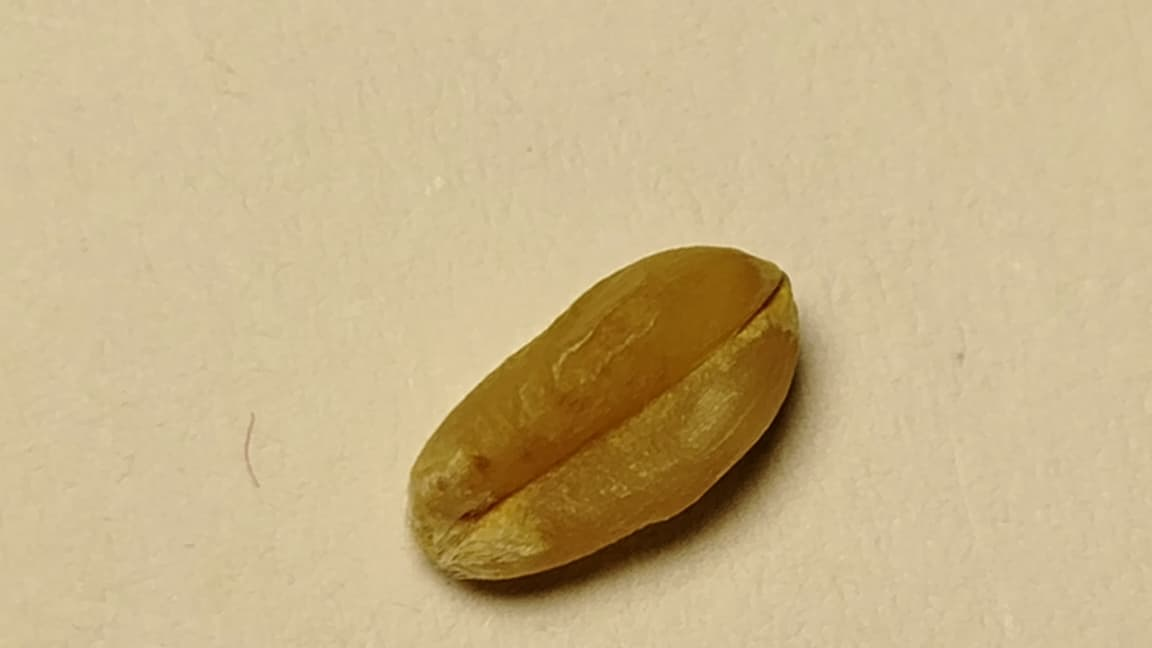healthy: (410, 247, 801, 579)
